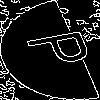P: (25, 25, 100, 71)
